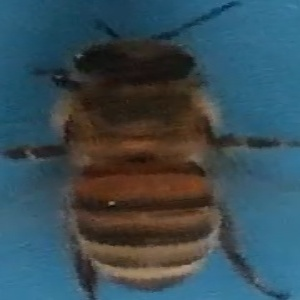bee: (5, 11, 292, 300)
